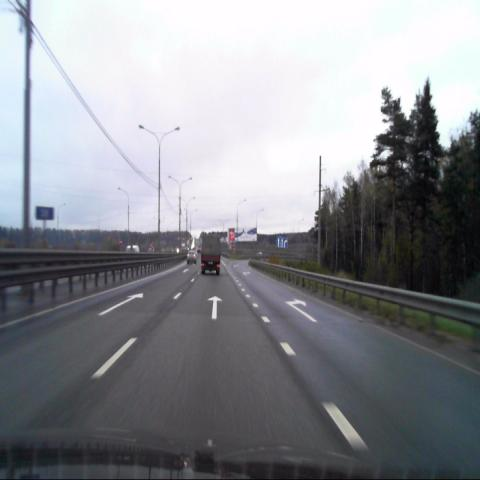5_15_1: (276, 237, 288, 247)
